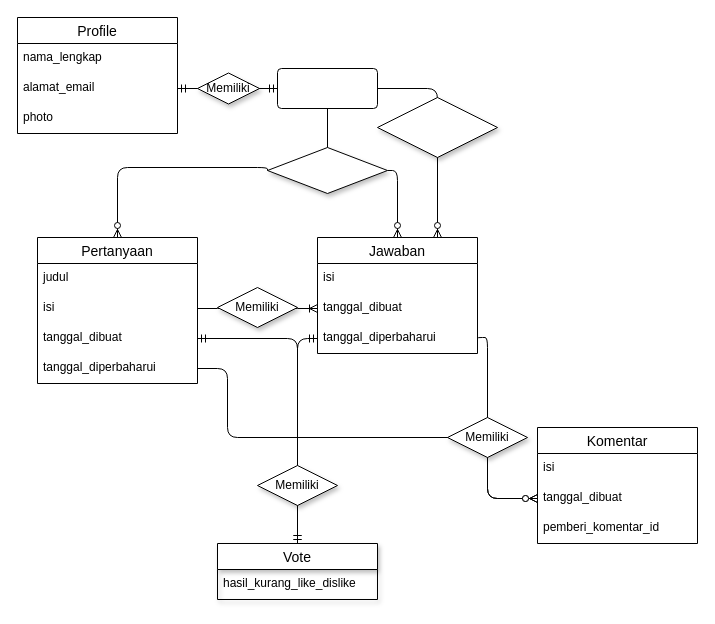
The diagram is 715 pixels wide and 624 high, and some of its shapes have lost their labels. Each missing label, with the centre of its shape:
"memberikan like dan dislike" goes at [328,171].
"memilih jawaban paling tepat" goes at [438,128].
"User" goes at [327,88].
